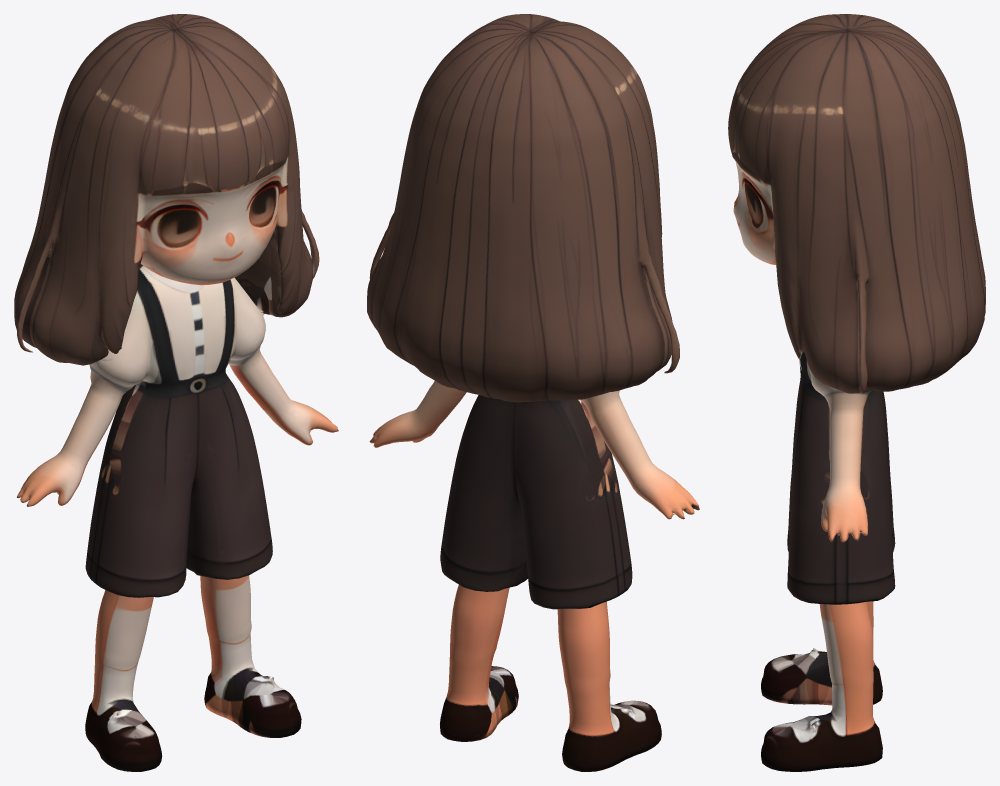
Rendered from cute_cartoon_girl_character.glb.
3 renders of one model, left to right at view 1: azimuth 30°, elevation 25°; view 2: azimuth 150°, elevation 25°; view 3: azimuth 270°, elevation 25°, orthographic. The views are drawn at different scales.
Visible parts, largest first — view 1: Object_2; view 2: Object_2; view 3: Object_2.
Part boxes in pixels (bbox=[...]): Object_2: bbox=[14, 14, 338, 771]; Object_2: bbox=[367, 14, 699, 771]; Object_2: bbox=[728, 14, 985, 771].
Size of the model in its own units: 0.8983 by 1.91 by 0.6396.
Materials: 1 (1 with a texture image).
